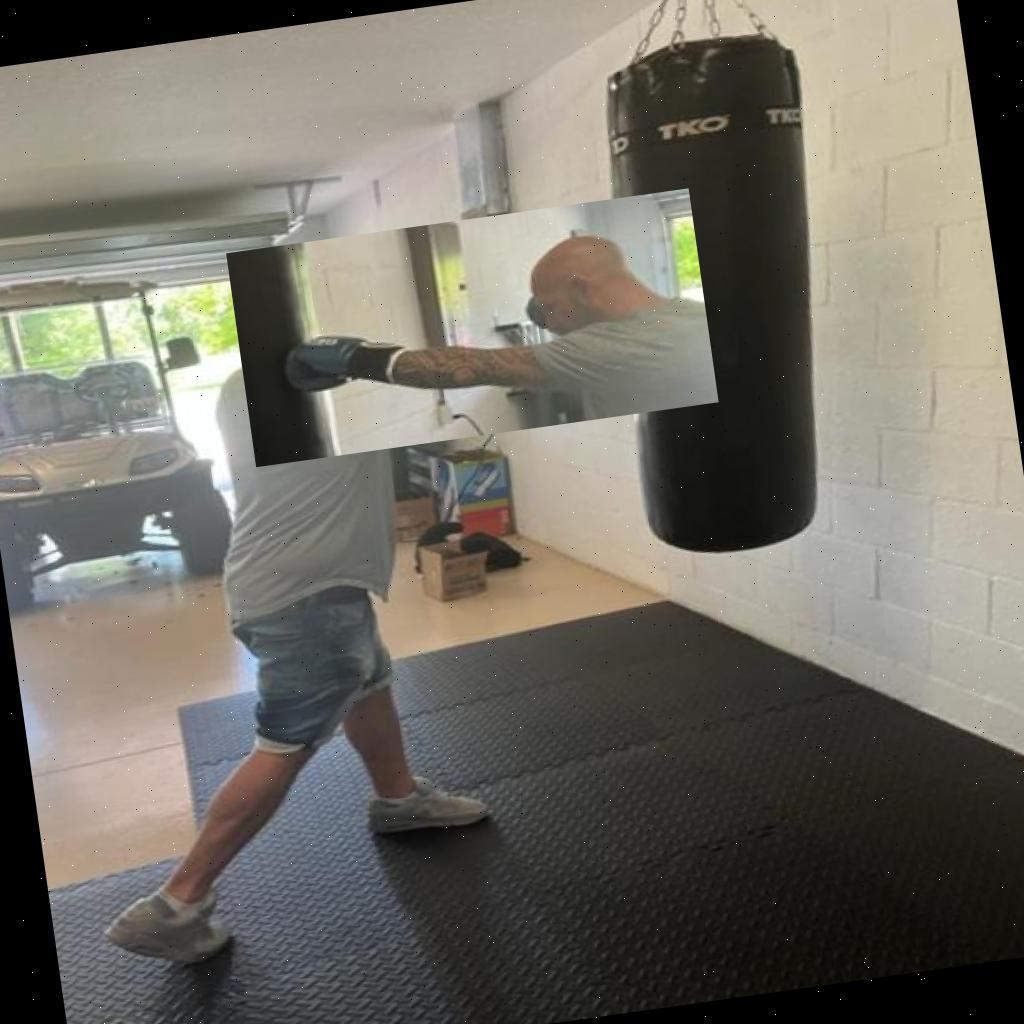cross: (226, 188, 719, 466)
